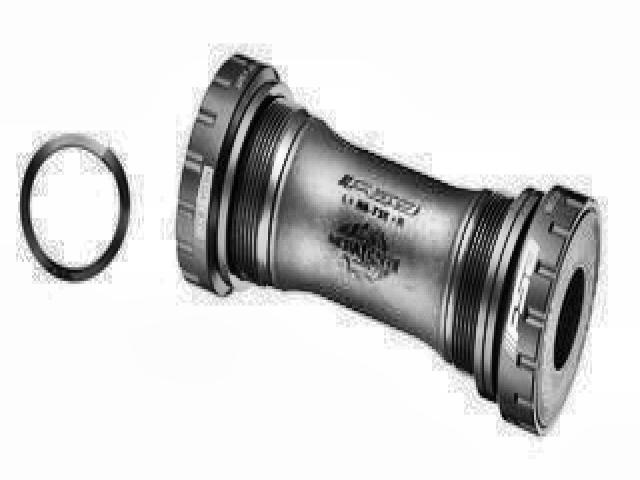bottom_bracket: (173, 48, 603, 440)
